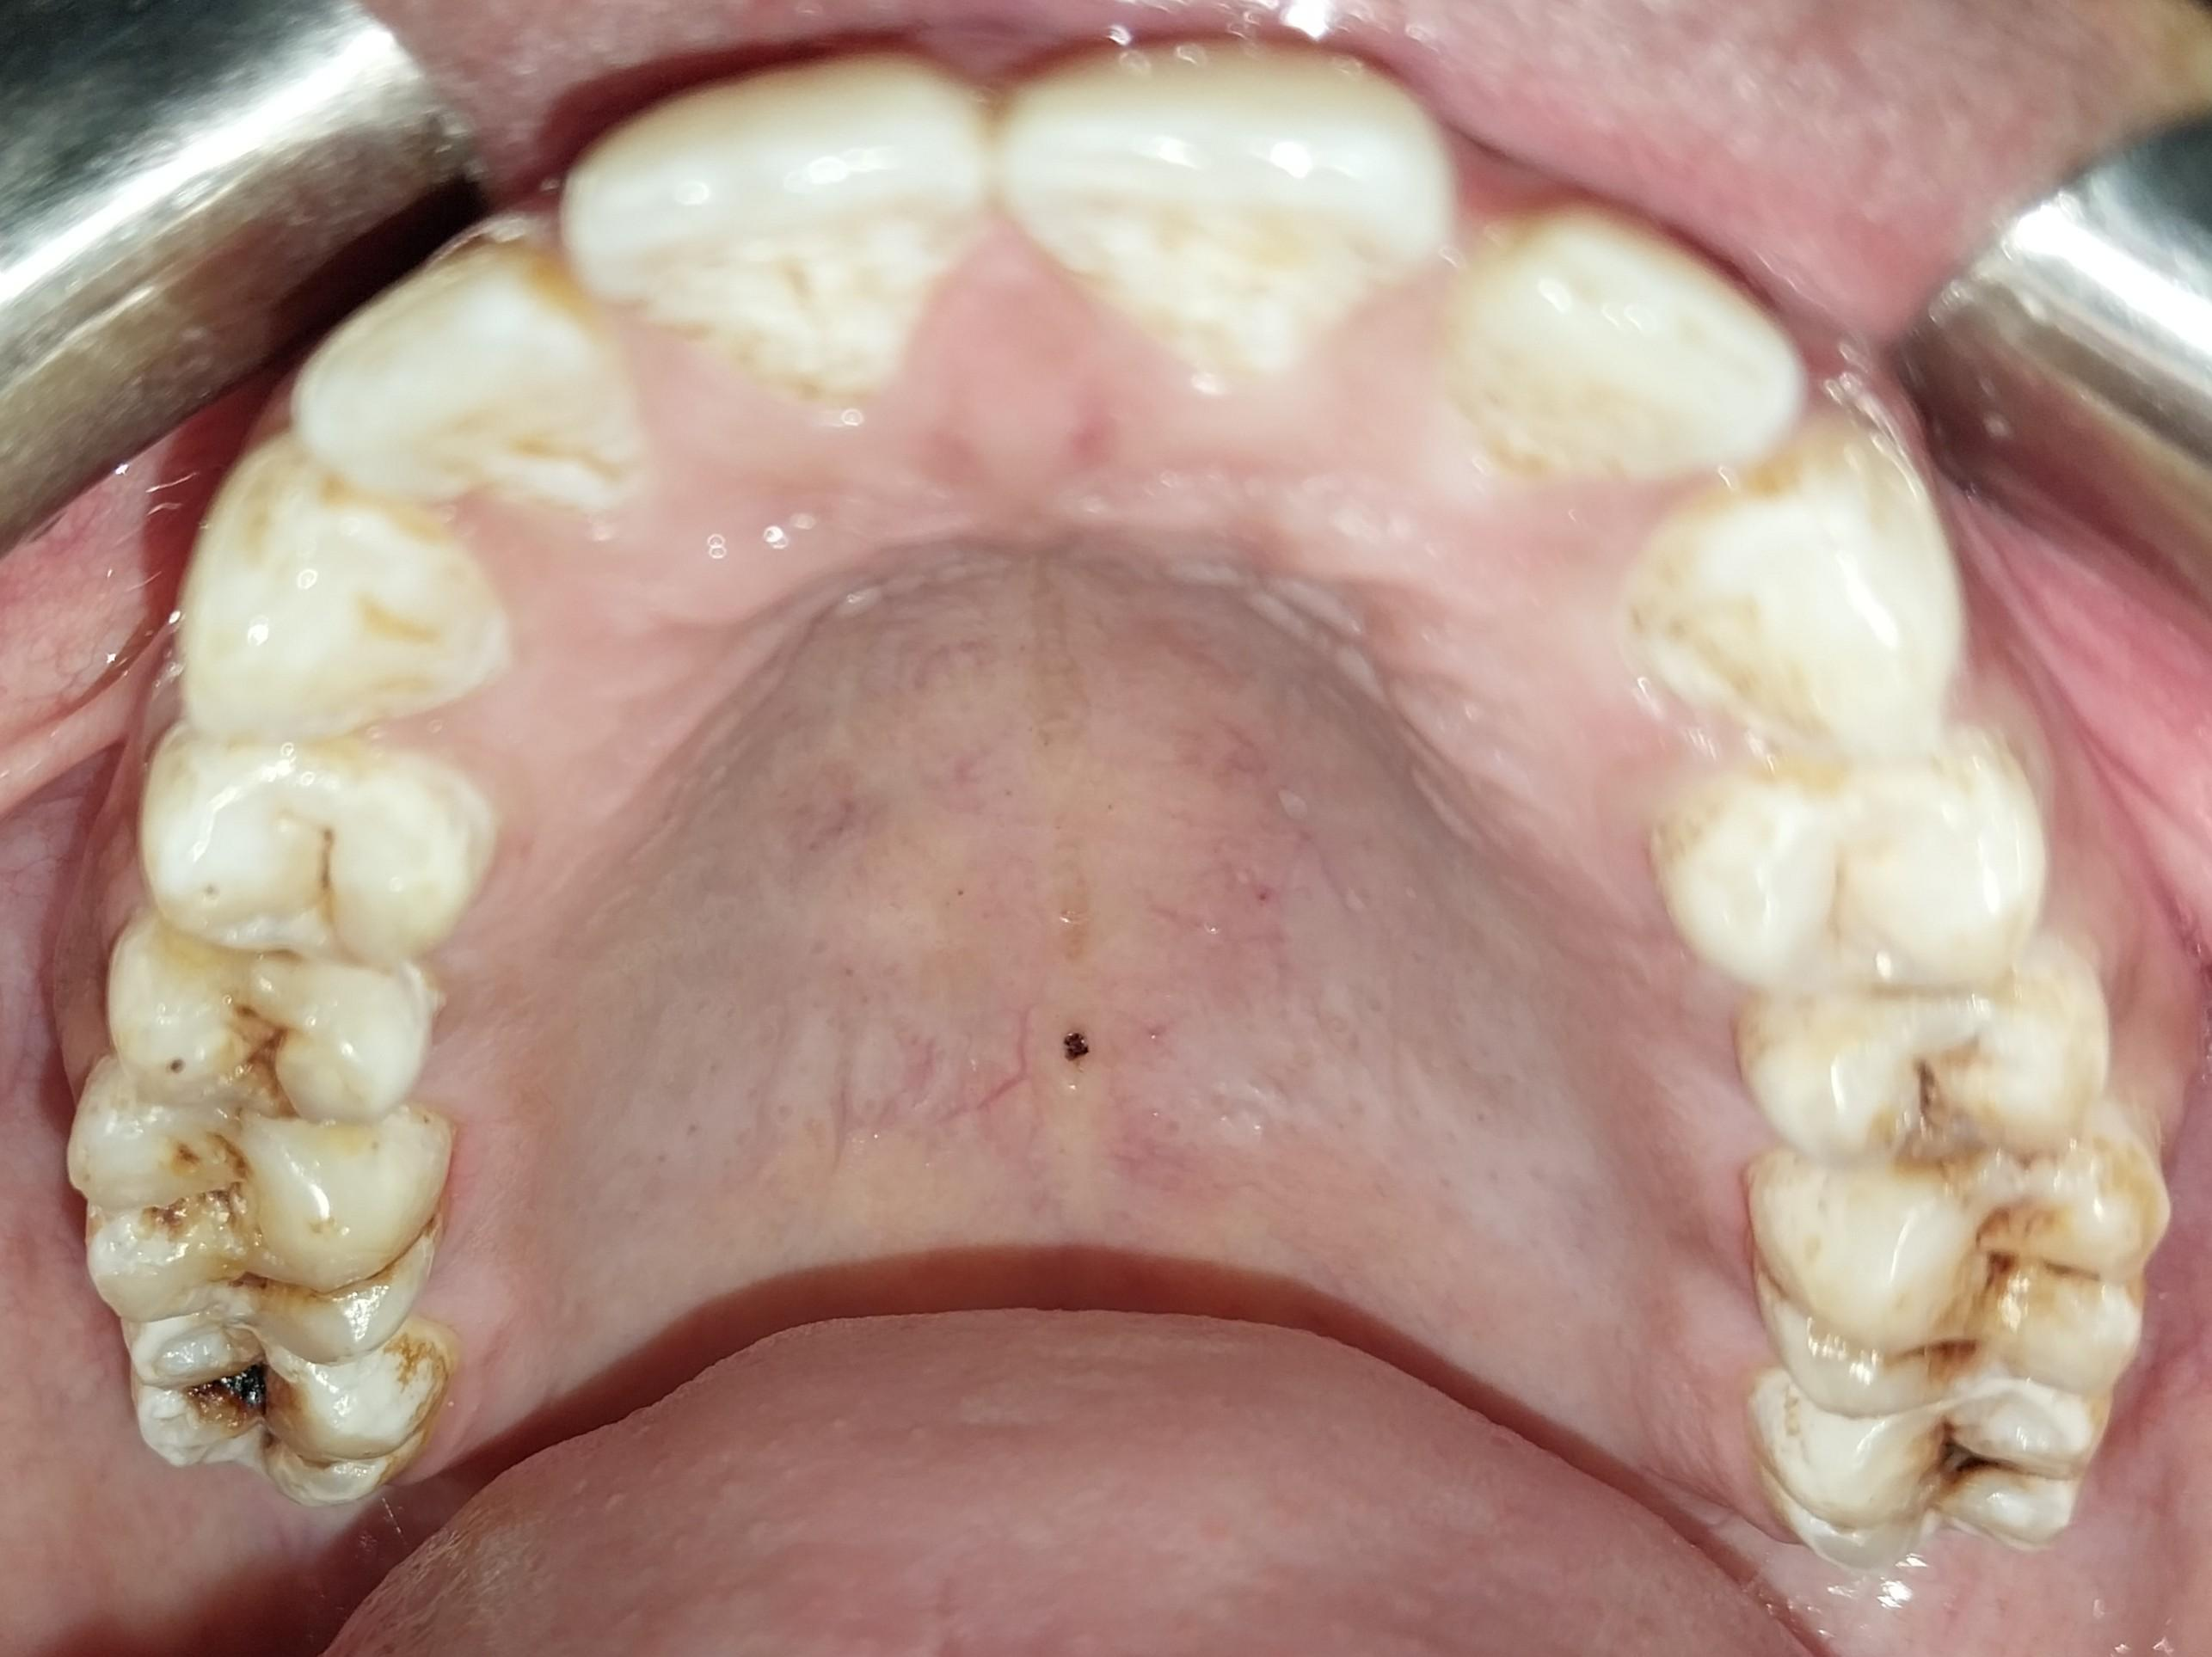D: (1752, 1133, 2170, 1419), (70, 1059, 447, 1365), (1740, 961, 2111, 1153), (1755, 1371, 2108, 1567), (108, 919, 435, 1115), (115, 1331, 441, 1507)
